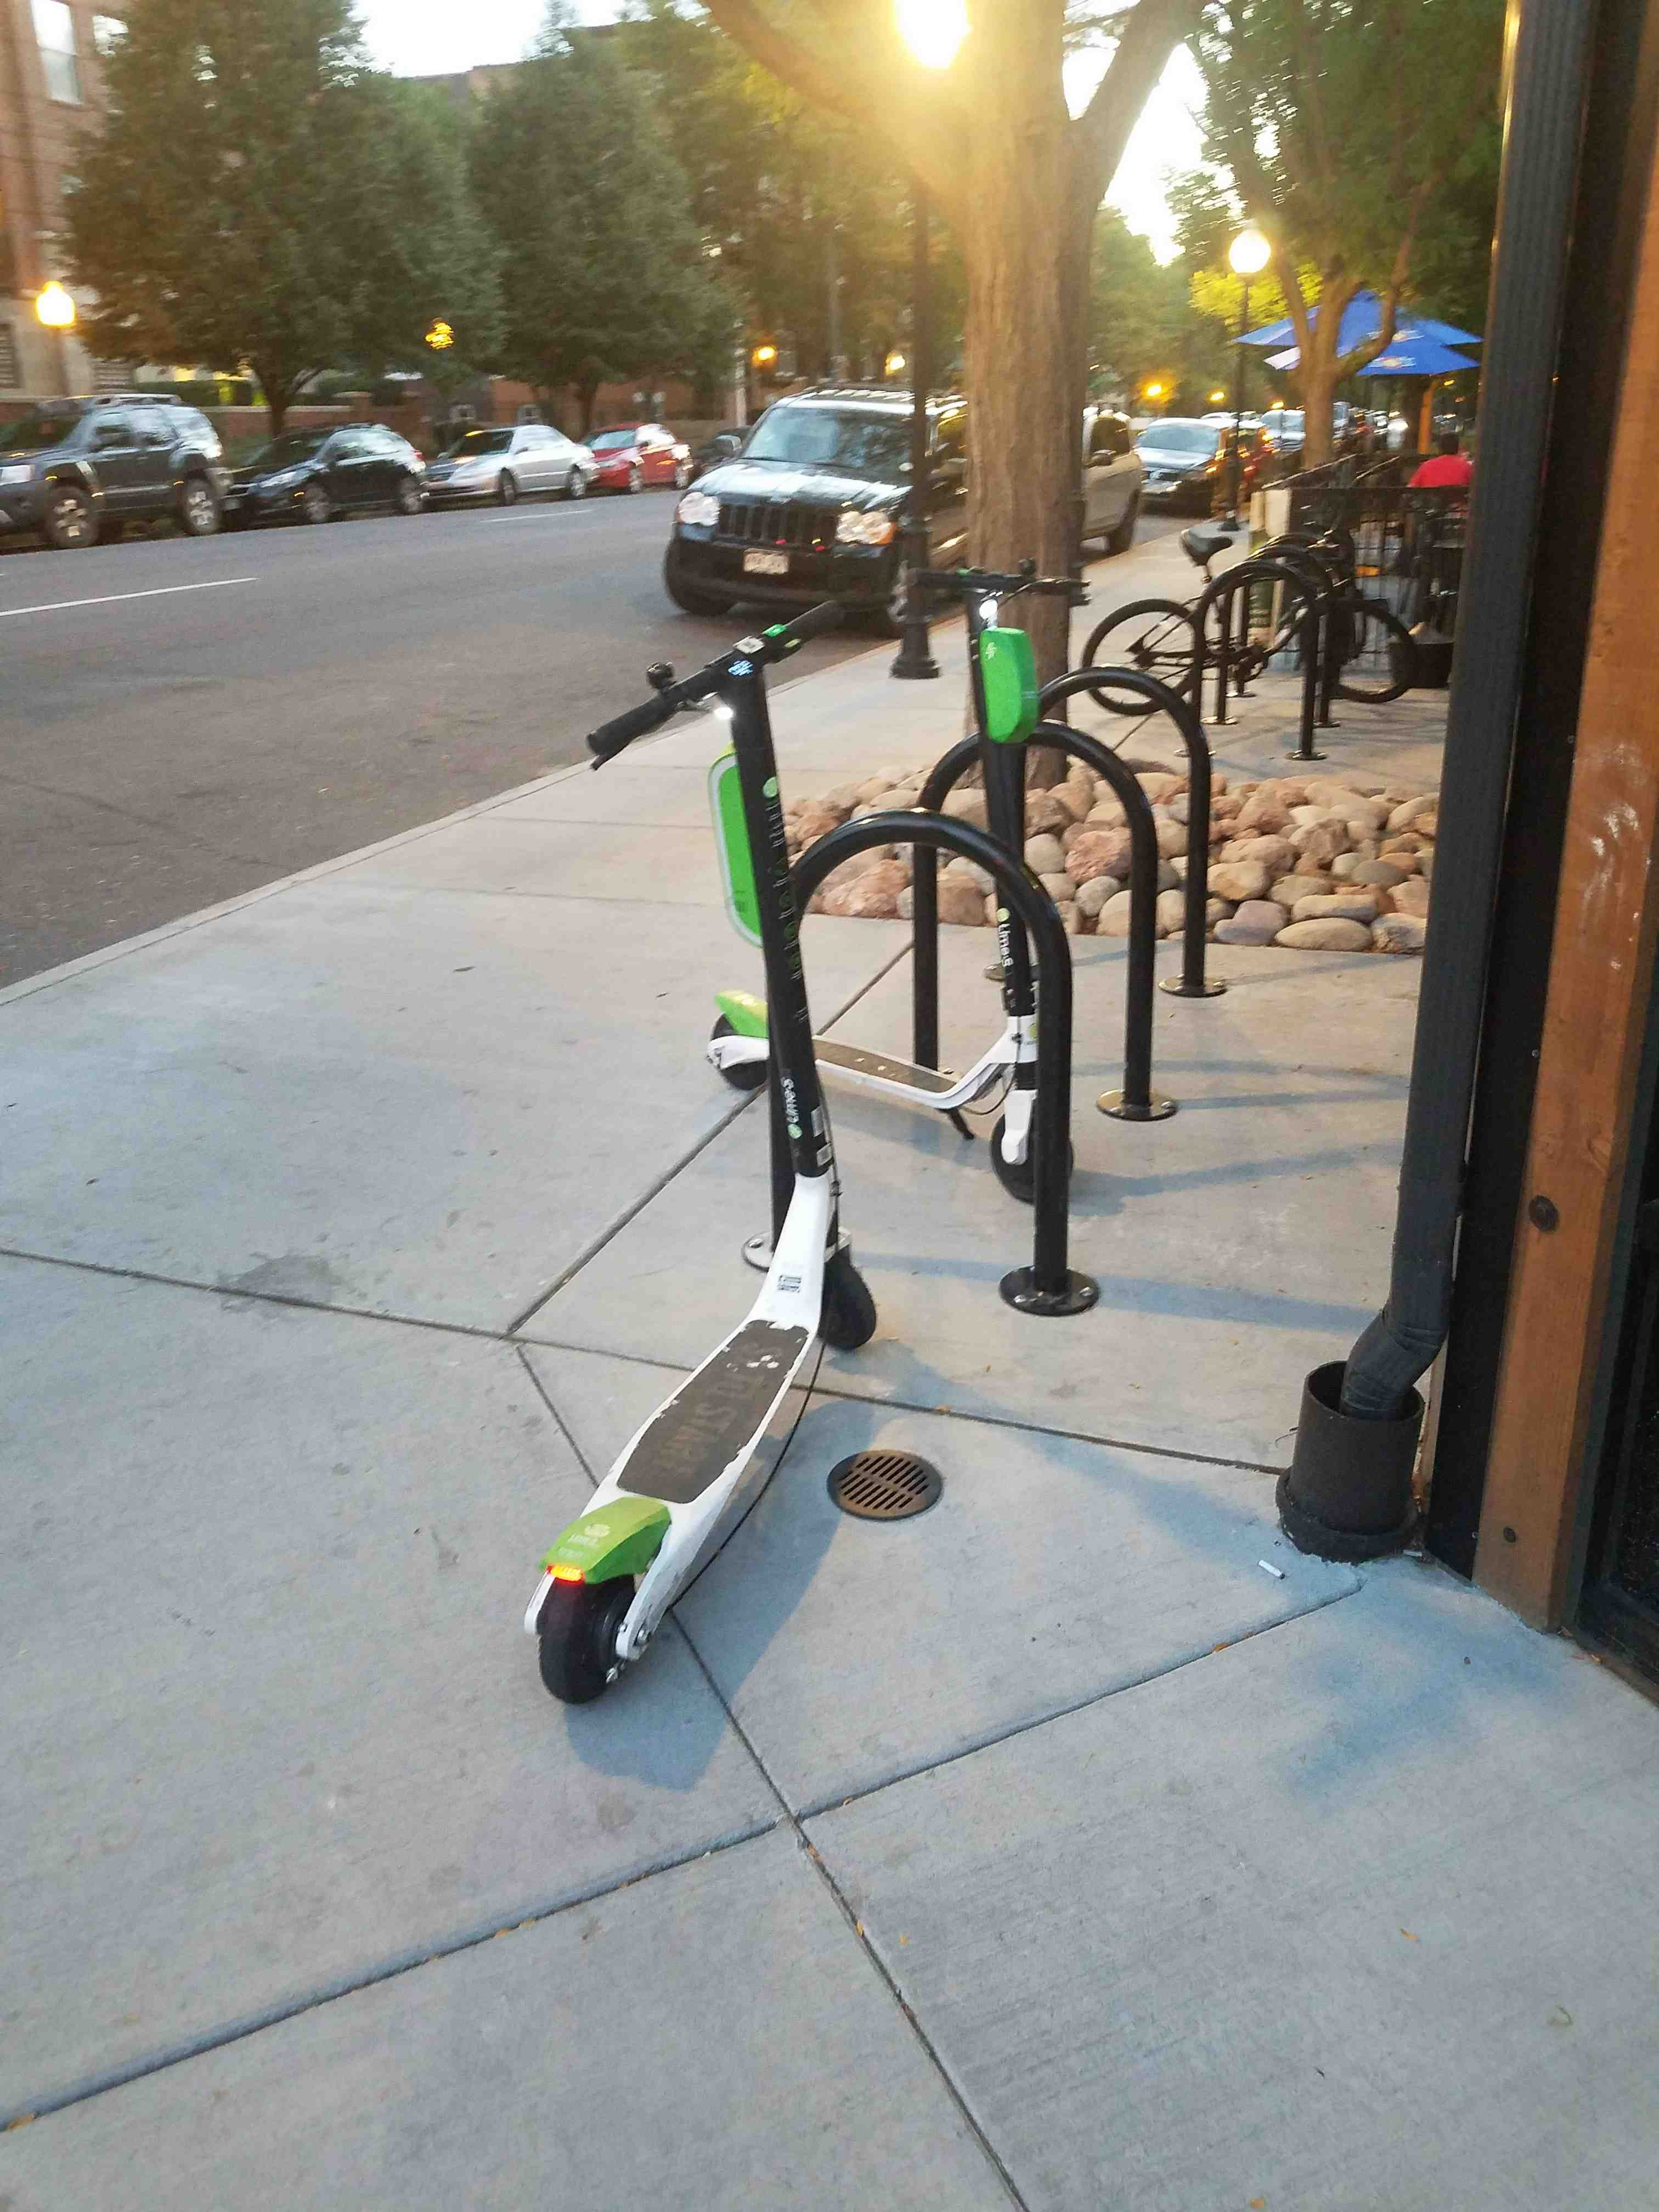scooter: (491, 594, 911, 1766)
